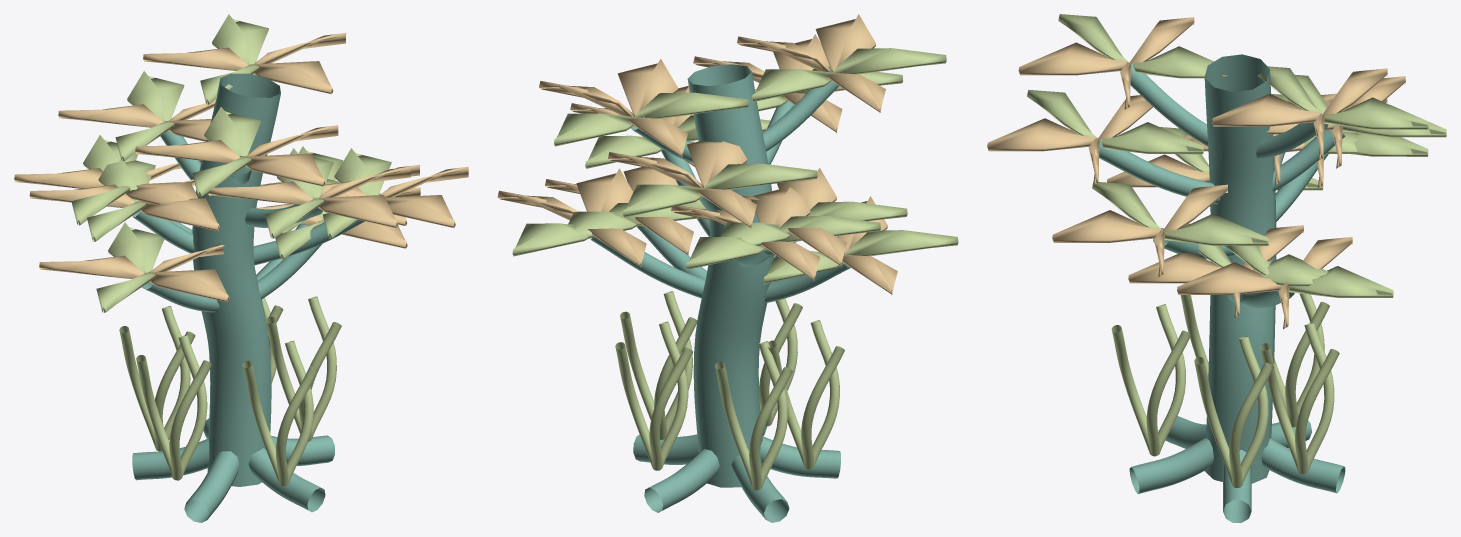
The model's file is bio_canopy_tree_24_near.glb.
3 views of the same model, side by side, from view 1: azimuth 30°, elevation 25°; view 2: azimuth 150°, elevation 25°; view 3: azimuth 270°, elevation 25° (orthographic). The views are drawn at different scales.
Parts seen in each view (by area): view 1: Buttressed trunk, Broad canopy leaf.035, Broad canopy leaf.010, Broad canopy leaf.015, Broad canopy leaf.020, Spiral filament.006, Spiral filament.012, Spiral filament, Spiral filament.003, Broad canopy leaf.005, Broad canopy leaf.045, Broad canopy leaf.036 (+11 smaller); view 2: Buttressed trunk, Broad canopy leaf.035, Broad canopy leaf.015, Spiral filament.003, Spiral filament.009, Broad canopy leaf.030, Broad canopy leaf.016, Broad canopy leaf.031, Broad canopy leaf.036, Broad canopy leaf.040, Spiral filament.012, Broad canopy leaf.005 (+14 smaller); view 3: Buttressed trunk, Spiral filament.006, Spiral filament, Spiral filament.009, Broad canopy leaf.035, Broad canopy leaf.015, Broad canopy leaf.025, Broad canopy leaf.010, Broad canopy leaf.026, Broad canopy leaf.011, Broad canopy leaf.040, Broad canopy leaf.016 (+11 smaller).
Part boxes in pixels (left/top/right/bottom): Buttressed trunk: left=132, top=73, right=364, bottom=522; Broad canopy leaf.035: left=135, top=125, right=338, bottom=186; Broad canopy leaf.010: left=208, top=166, right=410, bottom=227; Broad canopy leaf.015: left=143, top=33, right=346, bottom=93; Broad canopy leaf.020: left=39, top=244, right=229, bottom=302; Spiral filament.006: left=242, top=341, right=318, bottom=486; Spiral filament.012: left=136, top=335, right=212, bottom=480; Spiral filament: left=266, top=296, right=341, bottom=441; Spiral filament.003: left=119, top=306, right=195, bottom=451; Broad canopy leaf.005: left=14, top=160, right=201, bottom=204; Broad canopy leaf.045: left=29, top=179, right=219, bottom=230; Broad canopy leaf.036: left=192, top=107, right=261, bottom=197; Buttressed trunk: left=590, top=64, right=850, bottom=522; Broad canopy leaf.035: left=737, top=14, right=885, bottom=112; Broad canopy leaf.015: left=539, top=58, right=687, bottom=157; Spiral filament.003: left=715, top=341, right=792, bottom=490; Spiral filament.009: left=615, top=321, right=692, bottom=470; Broad canopy leaf.030: left=608, top=140, right=756, bottom=228; Broad canopy leaf.016: left=554, top=92, right=748, bottom=146; Broad canopy leaf.031: left=623, top=163, right=817, bottom=217; Broad canopy leaf.036: left=752, top=48, right=946, bottom=101; Broad canopy leaf.040: left=497, top=168, right=646, bottom=267; Spiral filament.012: left=767, top=320, right=844, bottom=469; Broad canopy leaf.005: left=671, top=187, right=819, bottom=281; Buttressed trunk: left=1099, top=54, right=1345, bottom=522; Spiral filament.006: left=1111, top=304, right=1191, bottom=456; Spiral filament: left=1194, top=336, right=1273, bottom=487; Spiral filament.009: left=1260, top=322, right=1339, bottom=474; Broad canopy leaf.035: left=1018, top=17, right=1194, bottom=109; Broad canopy leaf.015: left=1212, top=68, right=1387, bottom=160; Broad canopy leaf.025: left=1052, top=184, right=1227, bottom=276; Broad canopy leaf.010: left=987, top=95, right=1152, bottom=185; Broad canopy leaf.026: left=1092, top=182, right=1268, bottom=245; Broad canopy leaf.011: left=1027, top=89, right=1203, bottom=154; Broad canopy leaf.040: left=1177, top=237, right=1352, bottom=329; Broad canopy leaf.016: left=1257, top=66, right=1428, bottom=129.
Size of the model in its own units: 3.06 by 3.05 by 3.05.
